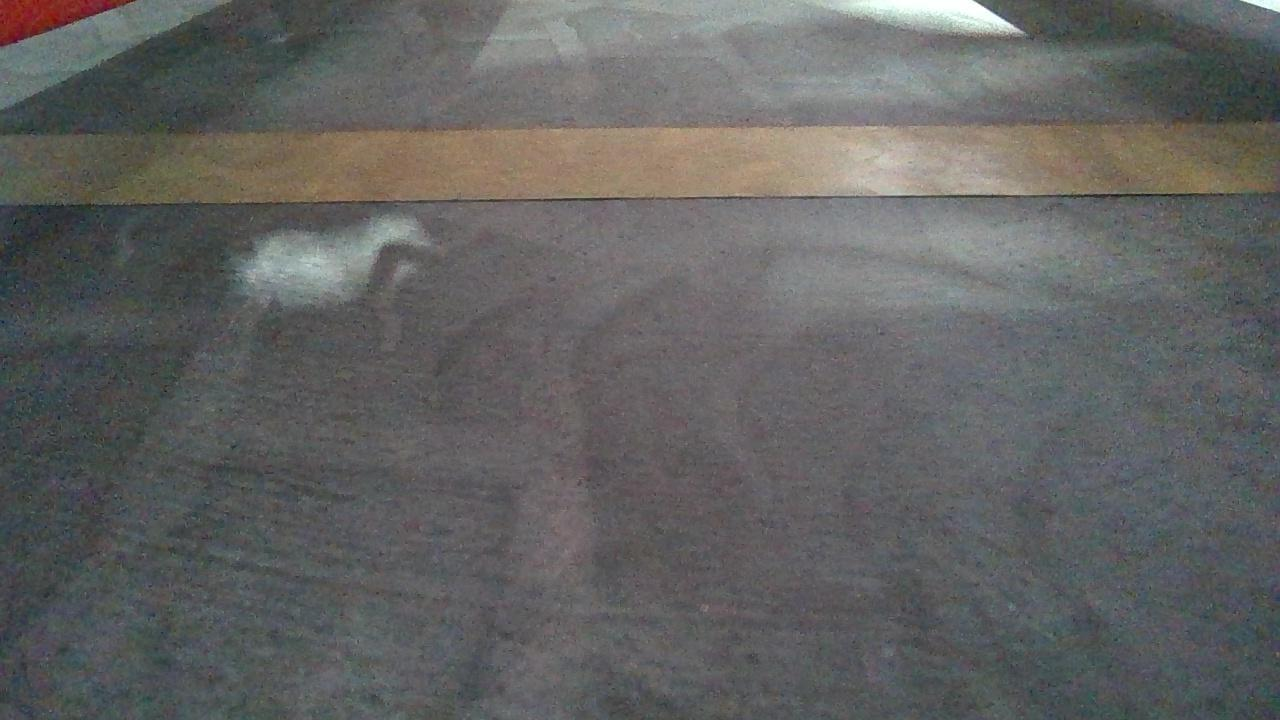yellow_line: (6, 118, 1280, 203)
